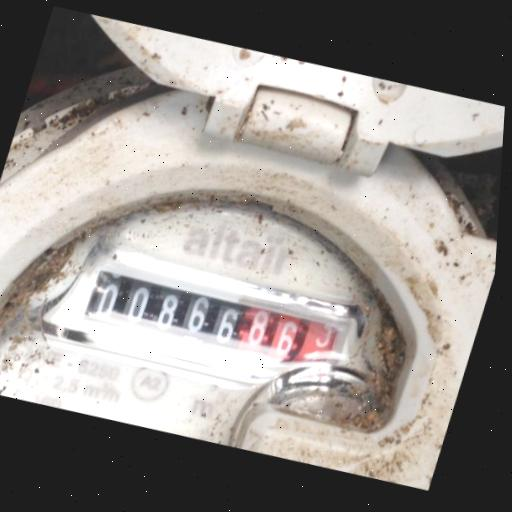0: (83, 270, 130, 330), (115, 276, 160, 334)
5: (296, 318, 341, 370)
6: (178, 288, 220, 345), (263, 311, 307, 364), (205, 298, 246, 350)
8: (144, 283, 192, 340), (233, 301, 279, 356)
border_water_meter_number: (71, 252, 356, 395)
